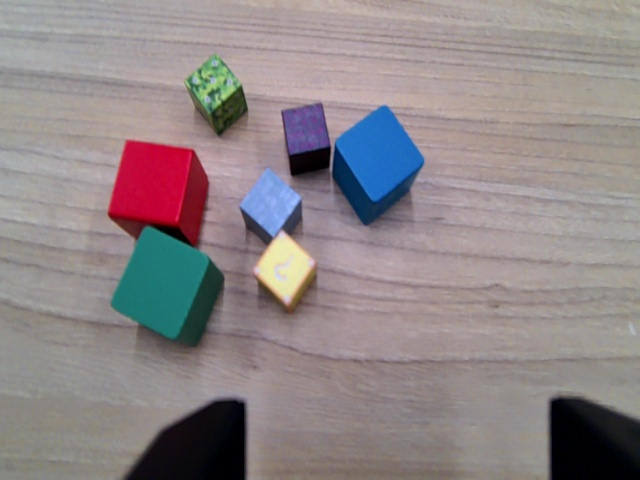brick: (278, 107, 331, 172)
grass: (185, 53, 247, 130)
lucky: (246, 233, 320, 311)
stone: (243, 167, 300, 230)
